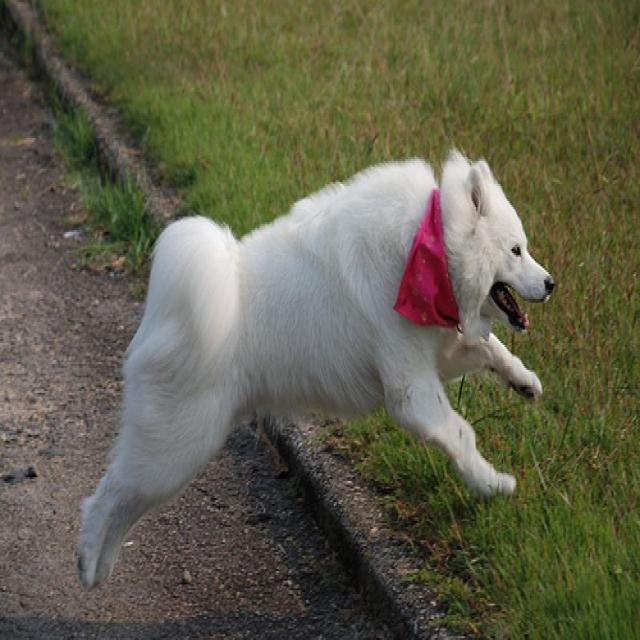dog-samoyed: (64, 144, 563, 606)
